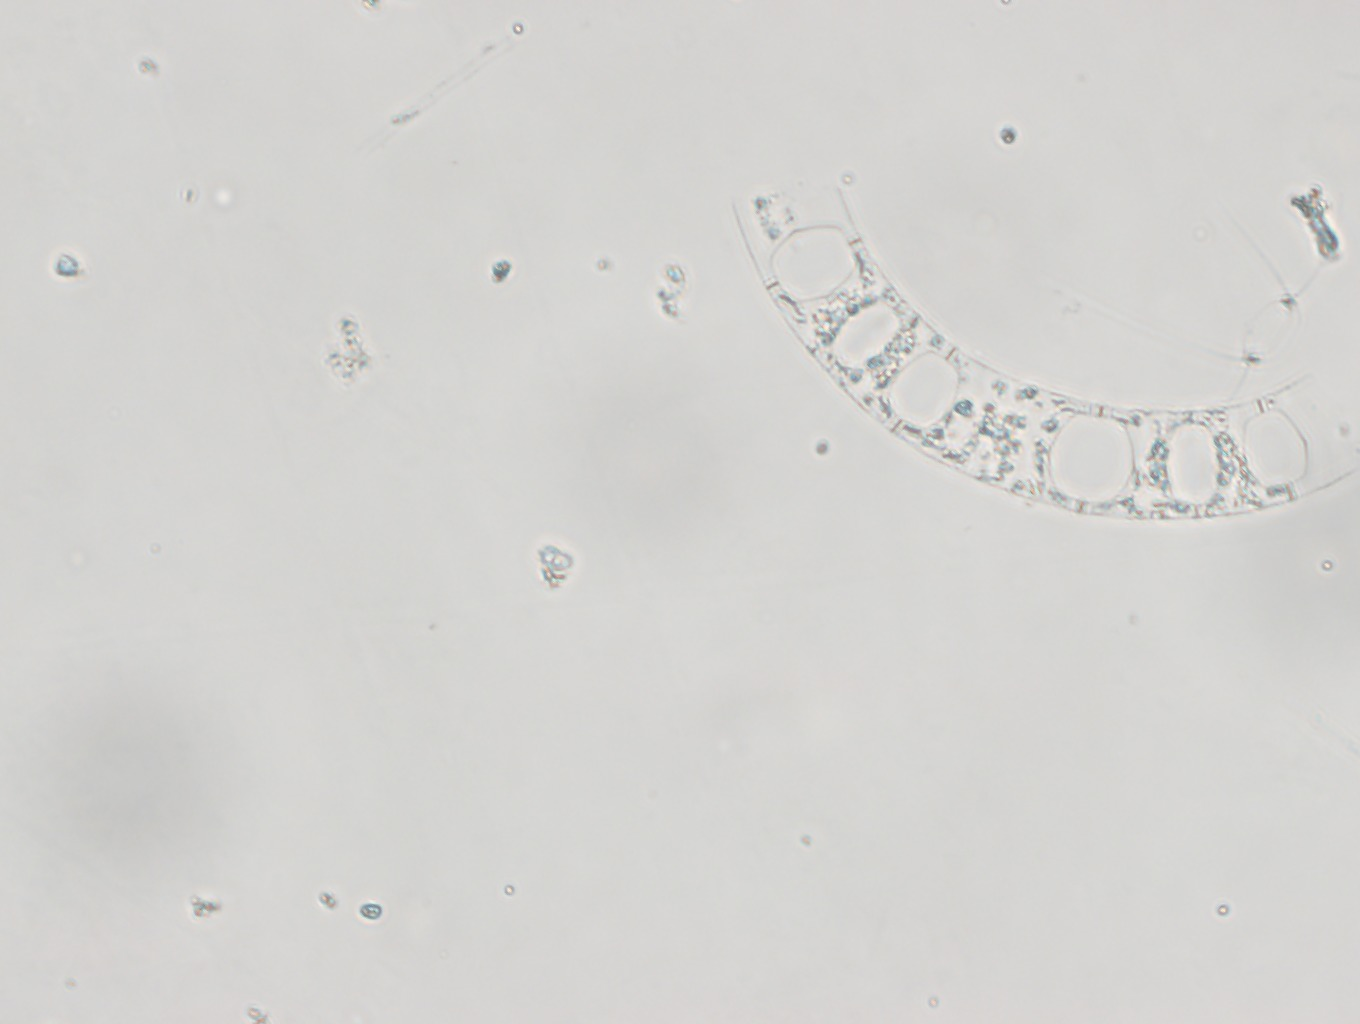chaetoceros: (1189, 213, 1344, 394)
eucampia: (728, 180, 1356, 530)
